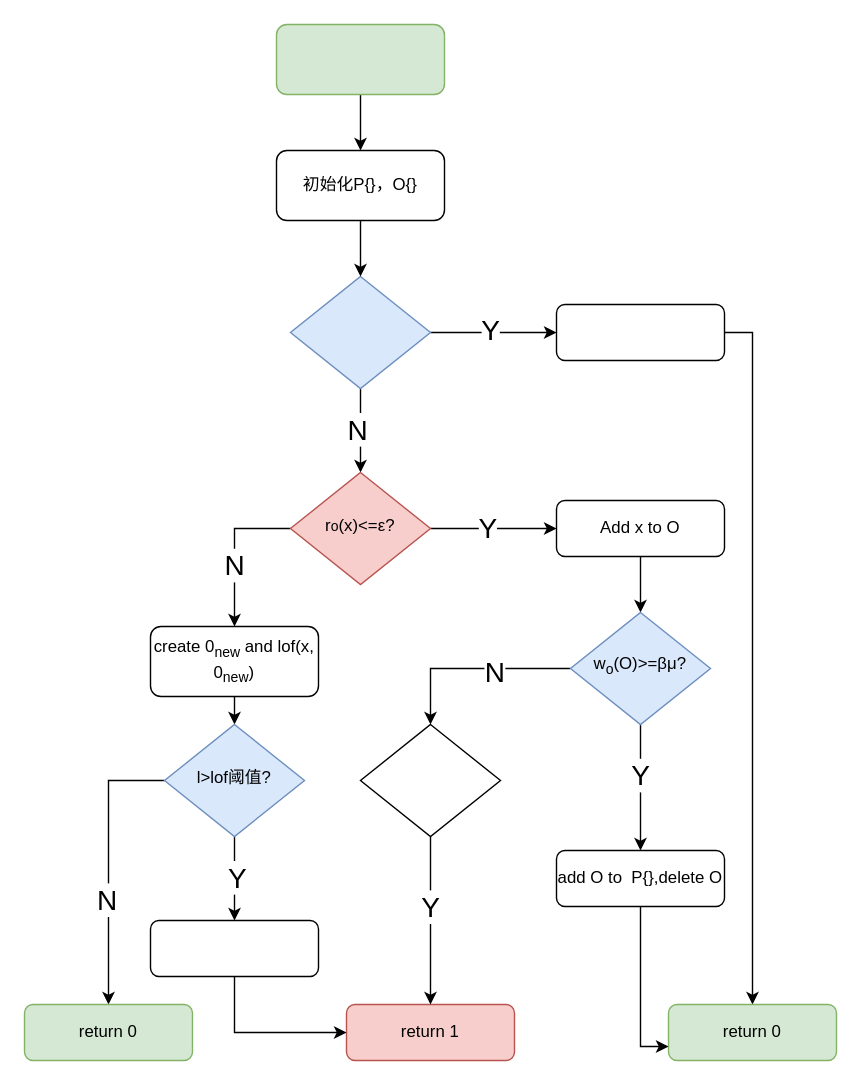
Image size: 861x1085. Some labels were removed from this diagram. The shapes that lost their labels are listed below. From the top down, each one's centre as x and y in pixels, then its label:
the point at 359,58: 输入参数 n, ε,μ, λ, β,lof阈值
the point at 359,331: r p (x)<=ε?
the point at 639,331: Add x to P
the point at 429,779: O is anomaly?
the point at 233,947: label 0 new =1
